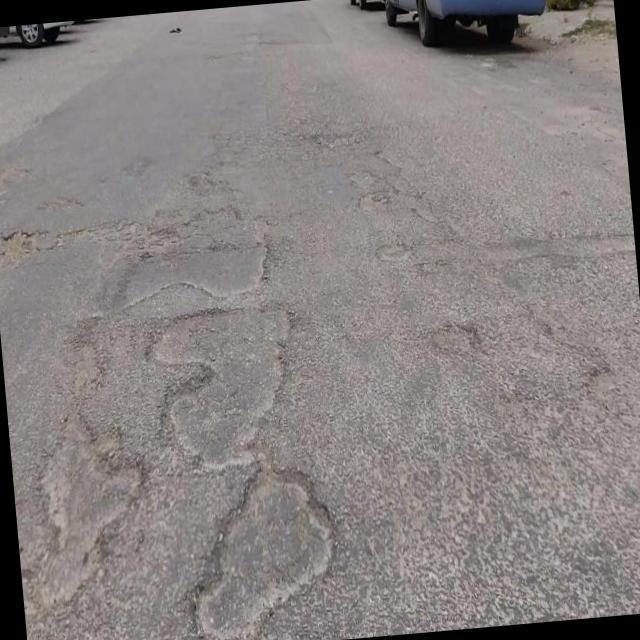Pothole: (188, 461, 338, 640), (144, 303, 299, 470), (27, 411, 148, 609), (104, 237, 271, 312)
